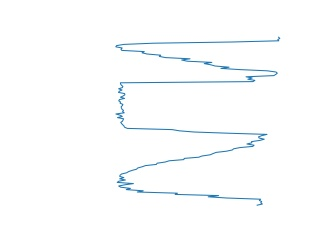distributaryChannelFill: (113, 72, 269, 140)
mouthBar: (112, 35, 283, 75)
underwaterDistributaryChannel: (113, 138, 266, 208)
